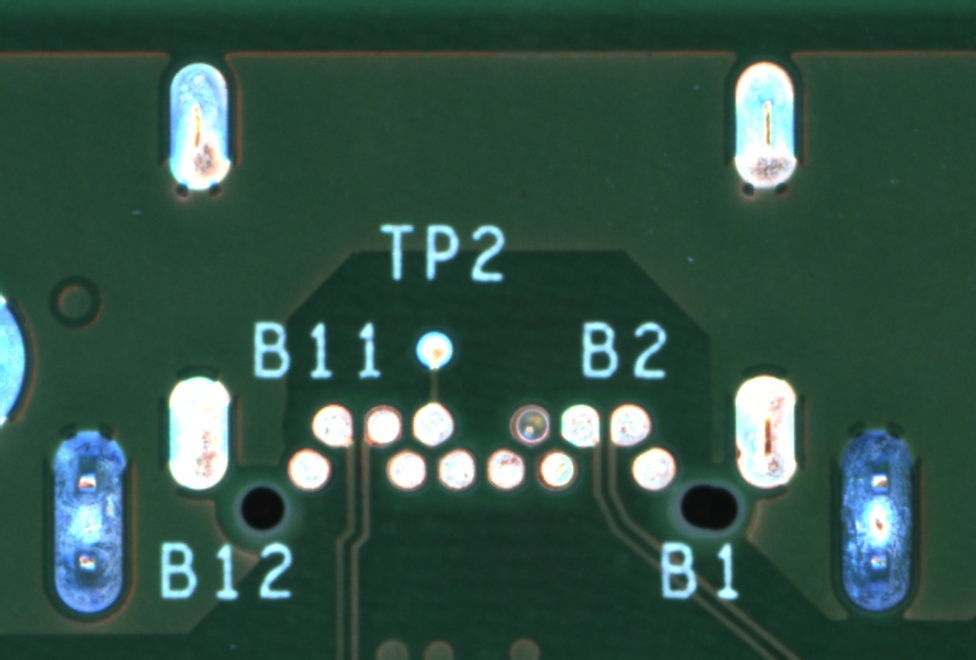SOLDER: (504, 398, 556, 448), (553, 400, 605, 450), (479, 446, 531, 496), (406, 399, 458, 449), (358, 401, 410, 451), (604, 400, 655, 450), (627, 443, 678, 493), (533, 446, 584, 496), (432, 445, 483, 495), (381, 445, 432, 495), (306, 401, 357, 451), (283, 445, 334, 495)
SOLDER2: (39, 420, 139, 626), (825, 413, 925, 618), (156, 356, 244, 508), (157, 53, 245, 205), (720, 357, 808, 509), (721, 51, 809, 203)
